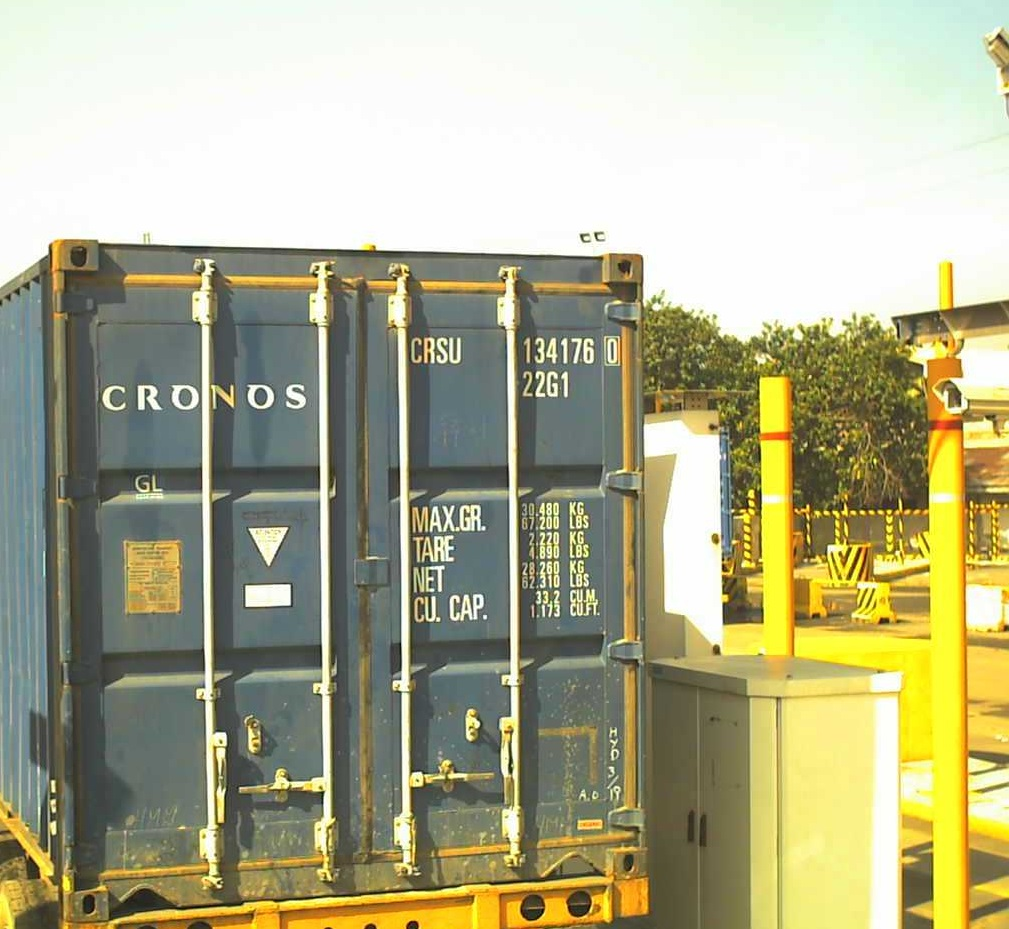container_door: (48, 241, 653, 916)
